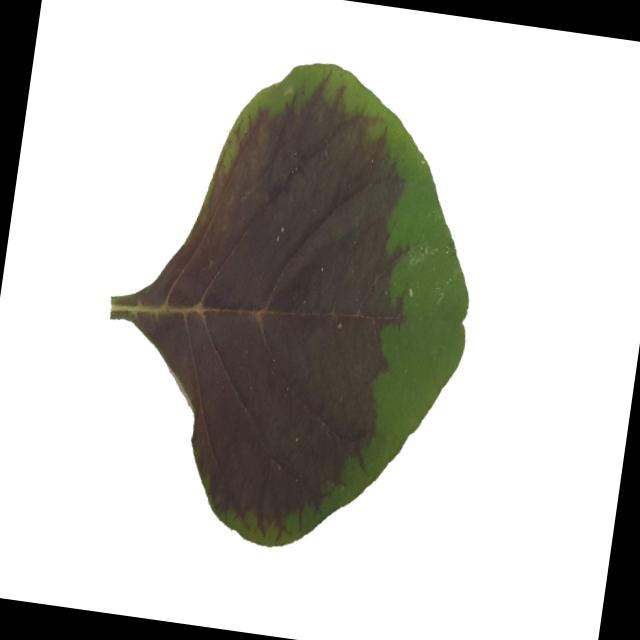Medicinal-Arive Dantu: (80, 38, 501, 572)
